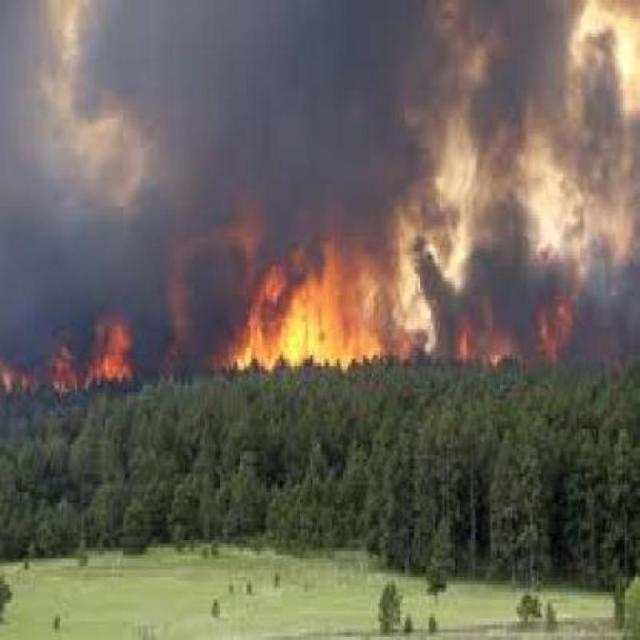Fire: (232, 254, 398, 383), (48, 308, 136, 412), (462, 310, 568, 376), (4, 344, 39, 432)
Smoke: (216, 27, 414, 238), (138, 139, 222, 387)
